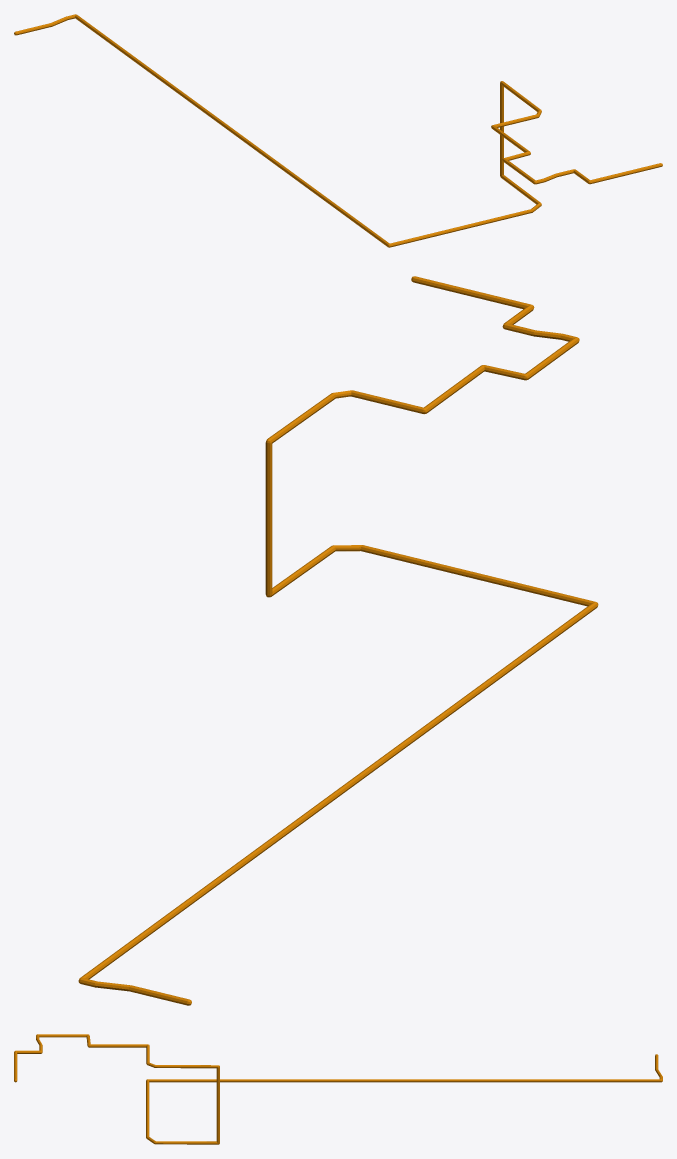
The picture shows the model from 3 angles, top to bottom: view 1: azimuth 30°, elevation 25°; view 2: azimuth 150°, elevation 25°; view 3: azimuth 270°, elevation 25°; orthographic projection. The views are drawn at different scales.
Size of the model in its own units: 1445 by 520 by 3854.
